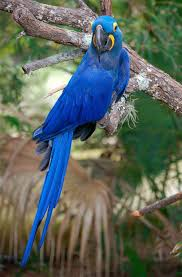guacamaya: (24, 14, 138, 239)
